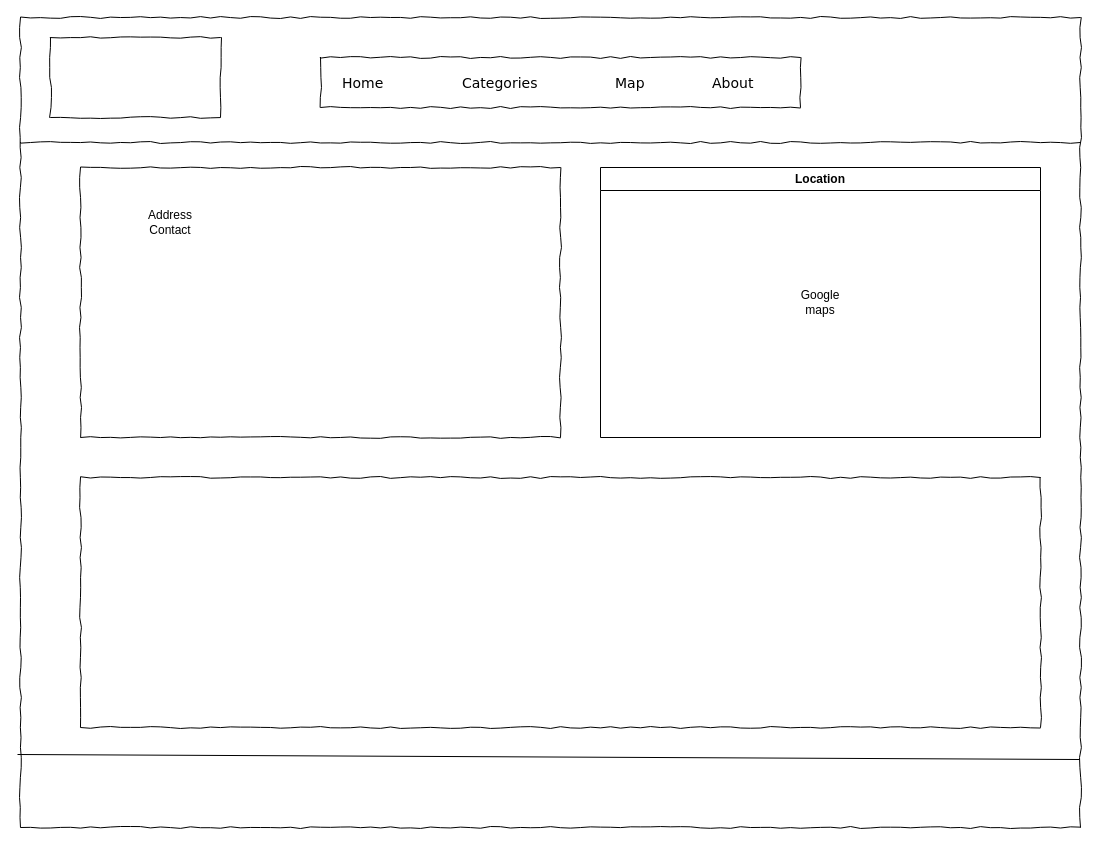
The diagram is 1098 pixels wide and 845 high, and some of its shapes have lost their labels. Here are the shapes that lost their labels. From the top down, the centre of each, then its label:
At point (135, 77): "LOGO".
At point (560, 602): "About the zoo What kind of animals Other information".
